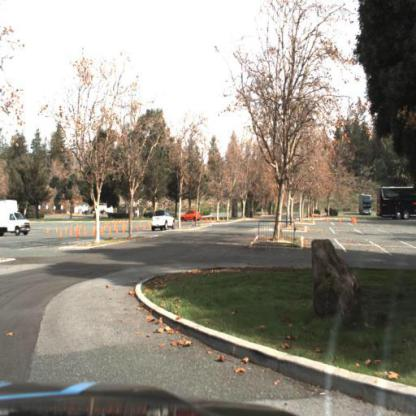car: (150, 207, 177, 233), (180, 209, 203, 223)
truck: (377, 185, 416, 222), (1, 198, 33, 241), (360, 192, 373, 216)
